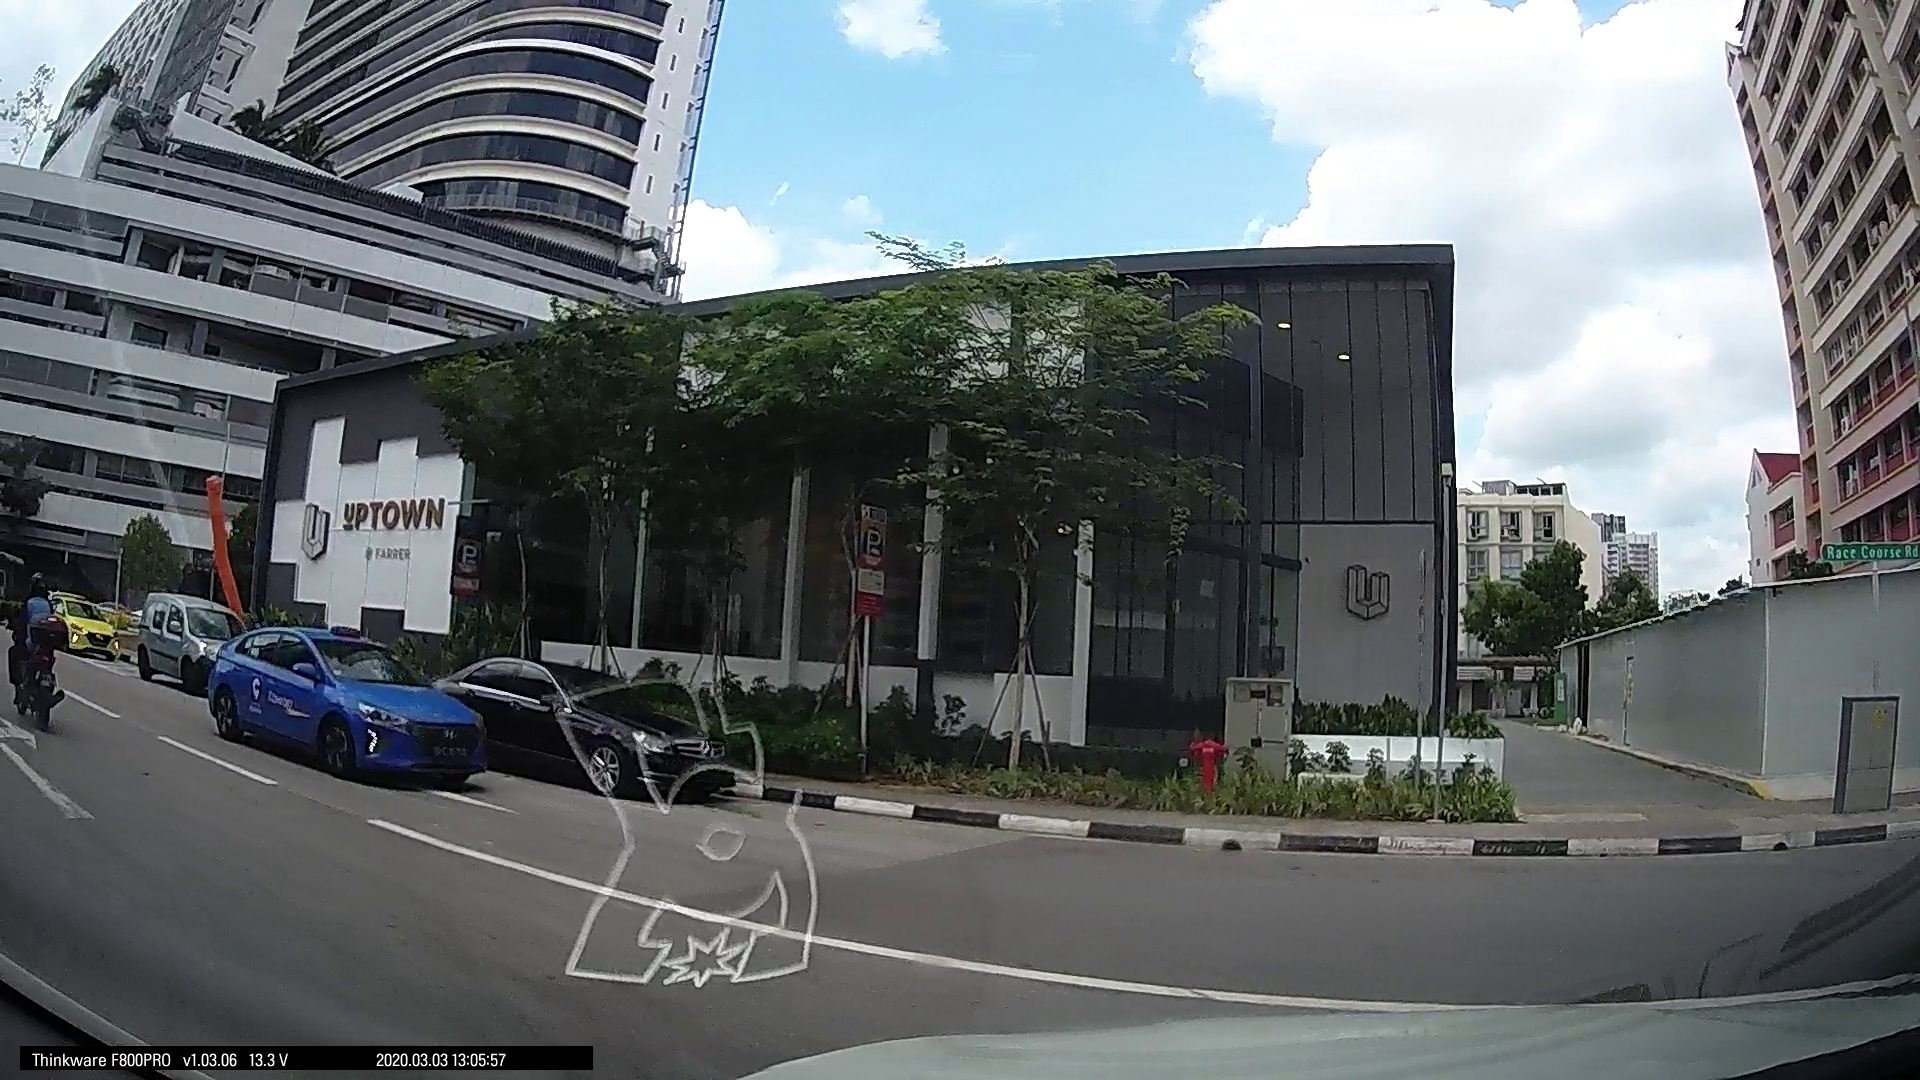Light Vehicle: (199, 620, 492, 786), (458, 647, 741, 804), (127, 585, 237, 690), (44, 589, 123, 658)
Motorcycle: (5, 589, 70, 733)
